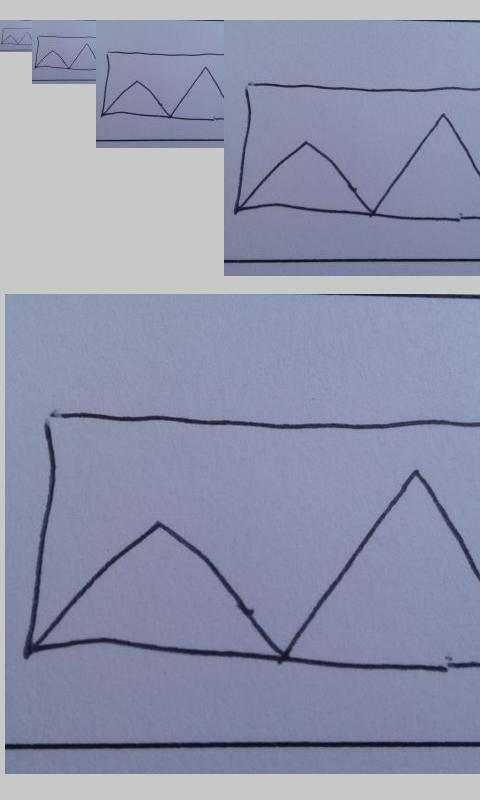image_view: (29, 408, 478, 676), (231, 80, 480, 225), (100, 49, 221, 123), (34, 35, 96, 72), (1, 27, 33, 46)
